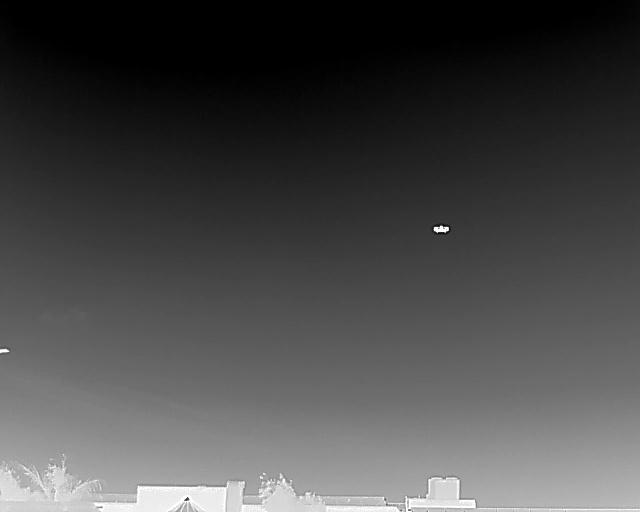fpv-drone: (432, 224, 450, 234)
